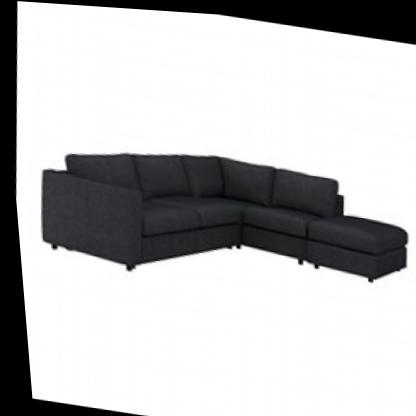Sofa: (24, 123, 413, 311)
